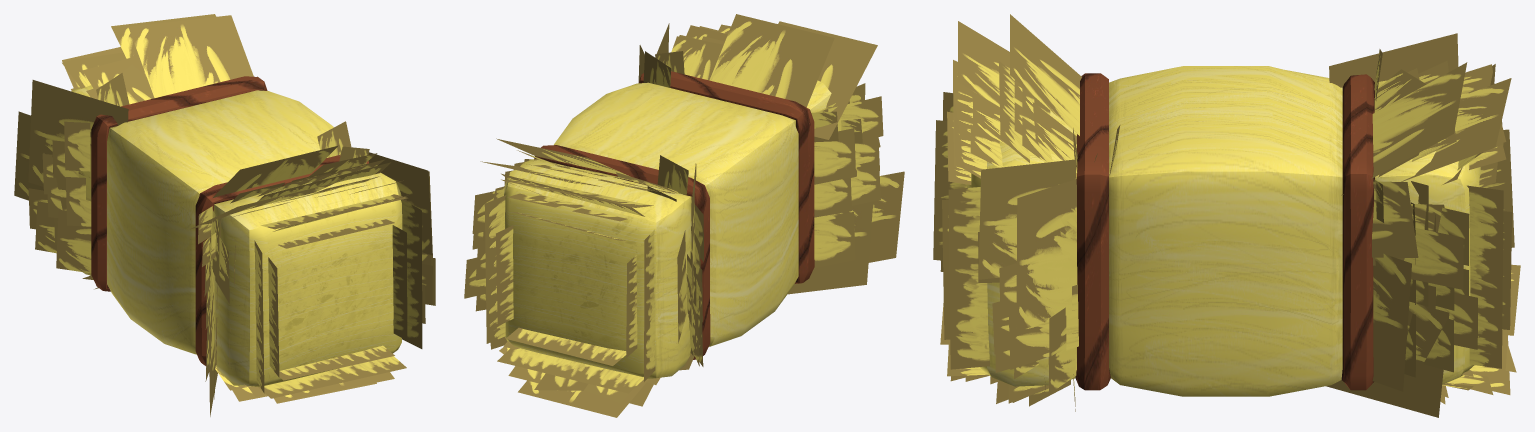
File: saman-balya.fbx
3 renders of one model, left to right at view 1: azimuth 30°, elevation 25°; view 2: azimuth 150°, elevation 25°; view 3: azimuth 270°, elevation 25°, orthographic. The views are drawn at different scales.
Visible parts, largest first — view 1: pCube1; view 2: pCube1; view 3: pCube1.
Part boxes in pixels (bbox=[...]): pCube1: bbox=[14, 14, 435, 416]; pCube1: bbox=[464, 14, 904, 417]; pCube1: bbox=[933, 14, 1520, 417].
Bounding box in the file's own units: 8.13 × 7.96 × 13.31.
Materials: 2 (2 with a texture image).
